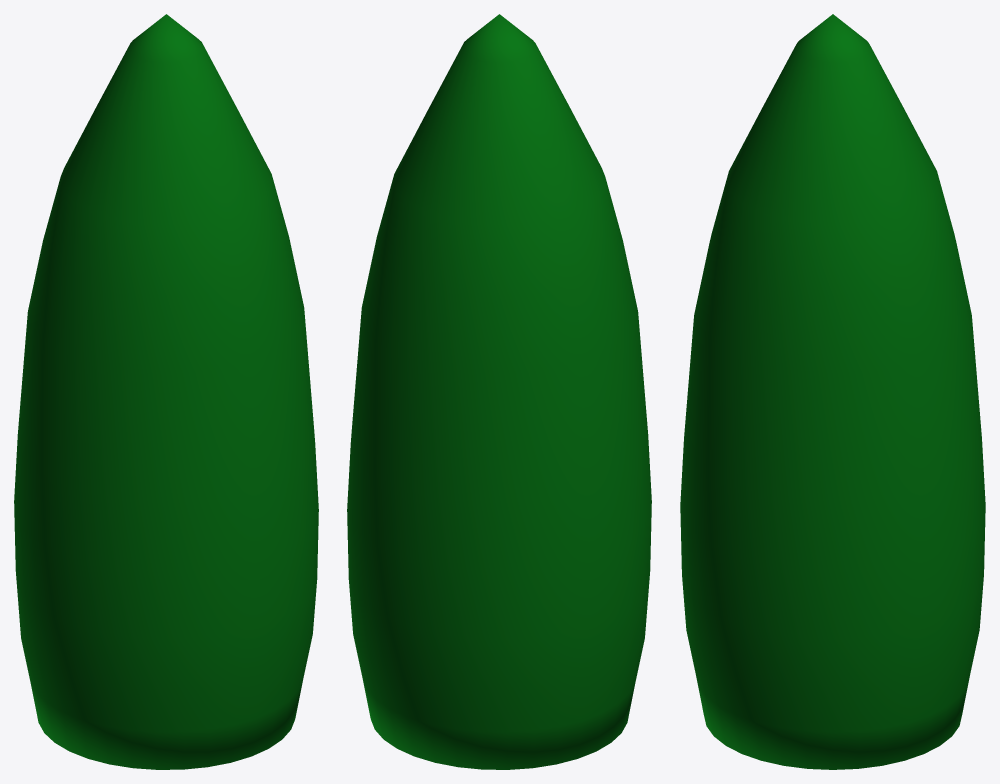
The model's file is arbusto3.fbx.
The picture shows the model from 3 angles, left to right: view 1: azimuth 30°, elevation 25°; view 2: azimuth 150°, elevation 25°; view 3: azimuth 270°, elevation 25°; orthographic projection.
Visible parts, largest first — view 1: Sphere; view 2: Sphere; view 3: Sphere.
Boxes of the visible parts, x1=… form: Sphere: x1=14, y1=14, x2=318, y2=769; Sphere: x1=347, y1=14, x2=651, y2=769; Sphere: x1=680, y1=14, x2=985, y2=769.
Size of the model in its own units: 1.6 by 4.05 by 1.6.
